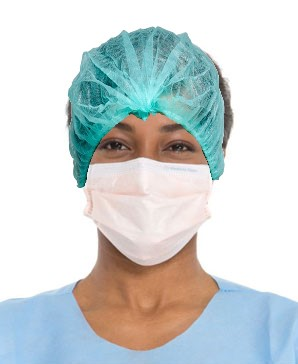with_mask_and_cap: (69, 29, 226, 268)
